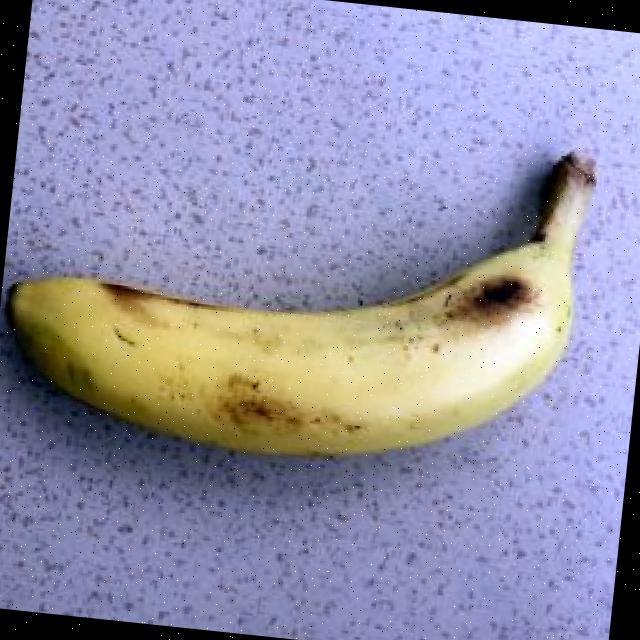banana: (10, 155, 593, 453)
